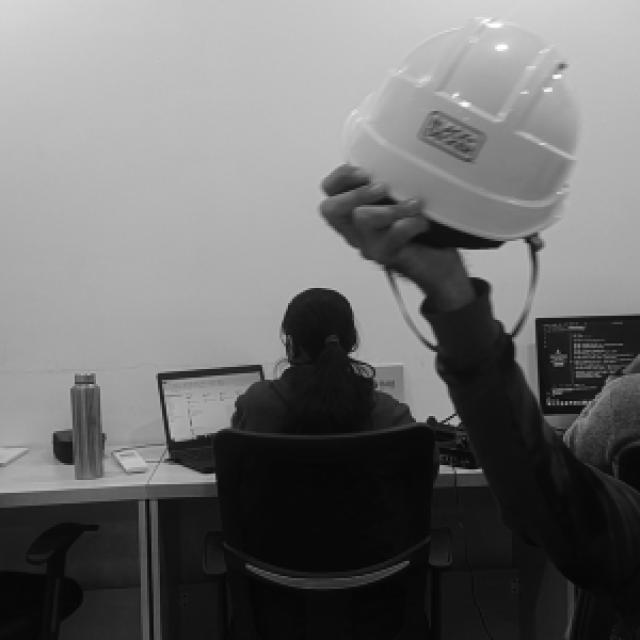safety_helmet: (342, 20, 582, 240)
